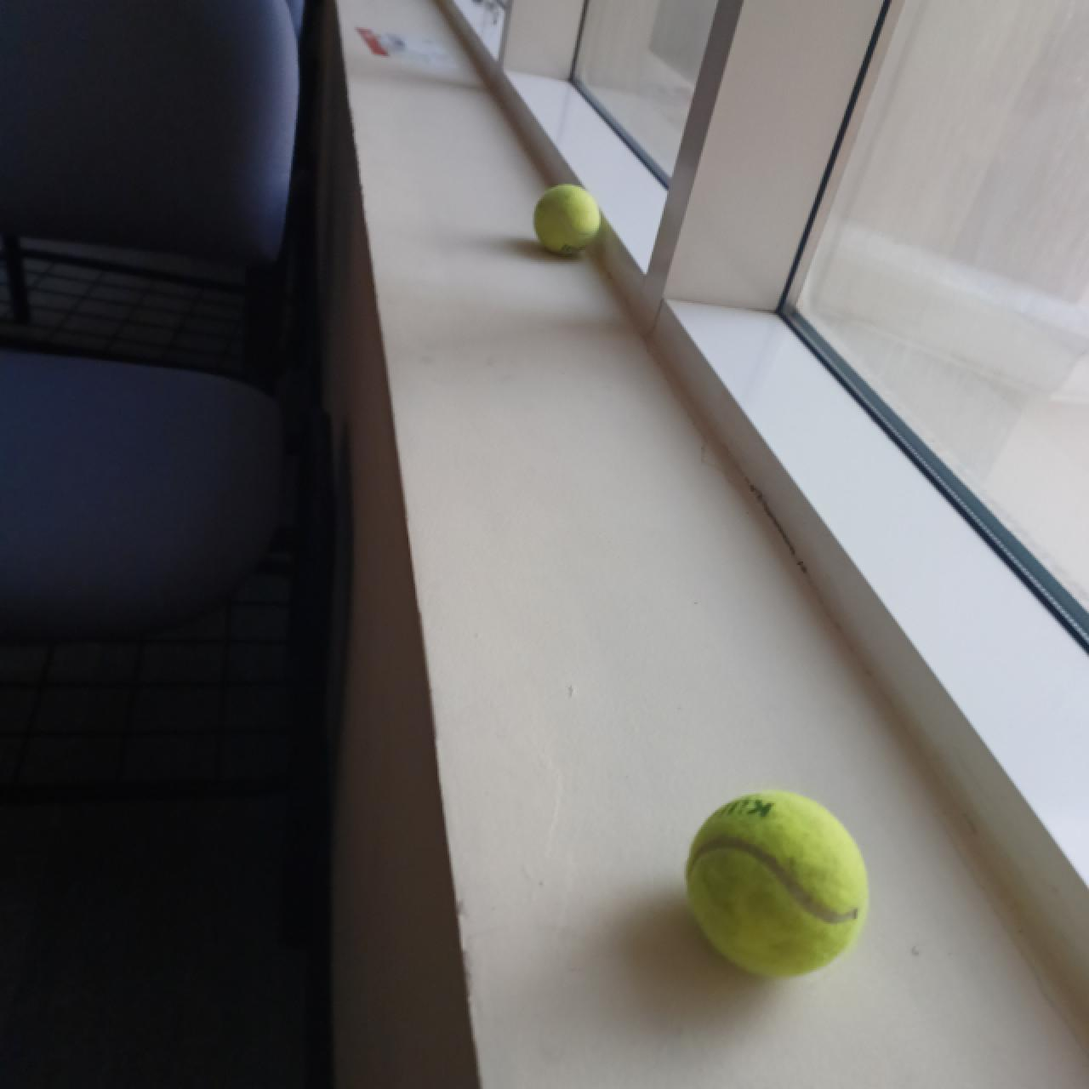tennis-ball: (682, 789, 866, 976), (532, 181, 603, 257)
